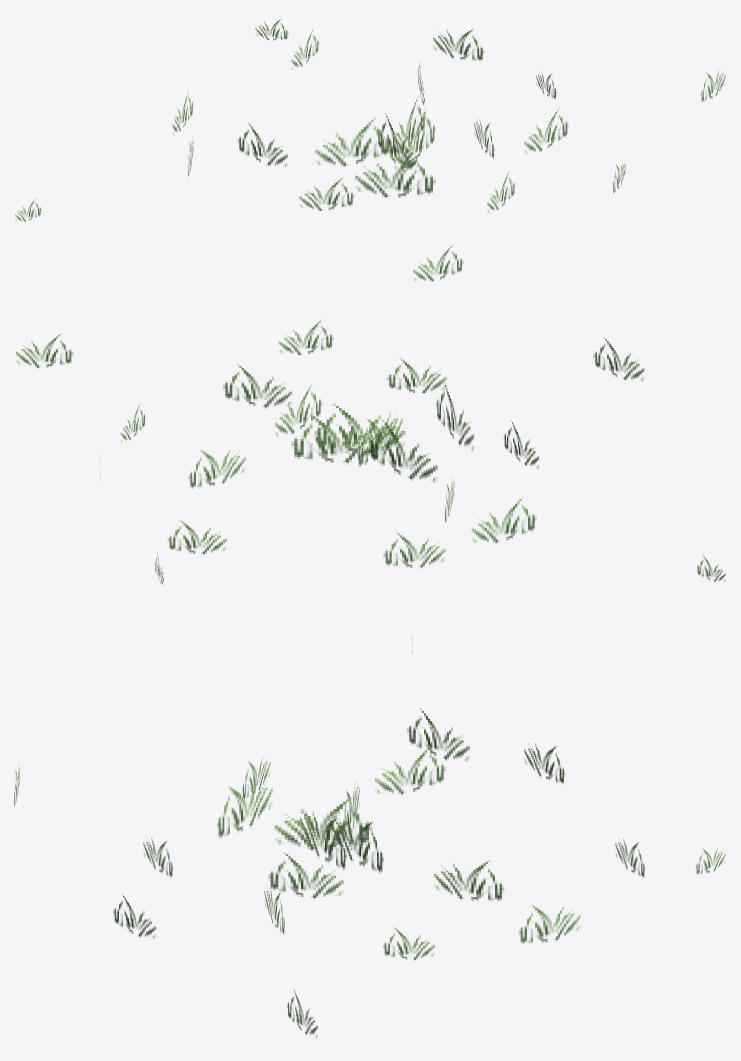
The model's file is GGJ Grass.glb.
3 renders of one model, top to bottom at view 1: azimuth 30°, elevation 25°; view 2: azimuth 150°, elevation 25°; view 3: azimuth 270°, elevation 25°, orthographic. The views are drawn at different scales.
Visible parts, largest first — view 1: Grass; view 2: Grass; view 3: Grass.
Part boxes in pixels (x1=…): Grass: x1=15, y1=18, x2=725, y2=281; Grass: x1=16, y1=319, x2=725, y2=585; Grass: x1=14, y1=636, x2=725, y2=1037.
Bounding box in the file's own units: 11.25 × 0.7799 × 8.55.
Materials: 1 (1 with a texture image).
